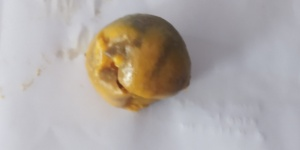BAD: (84, 12, 191, 110)
